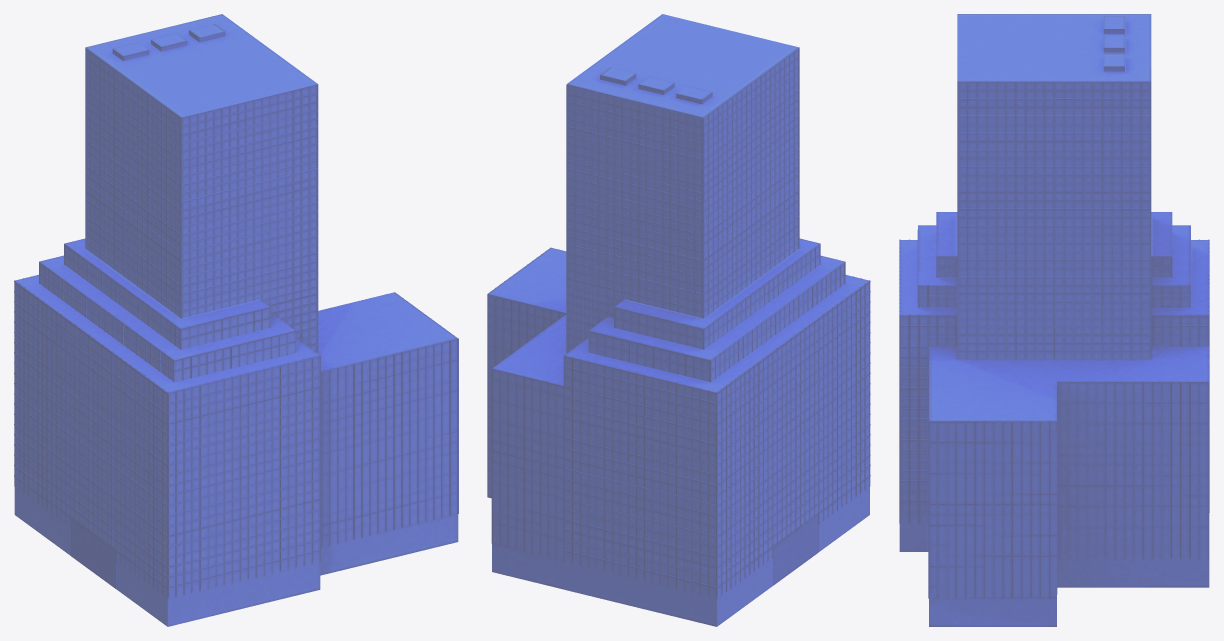
The model's file is 485_lex_on.glb.
3 views of the same model, side by side, from view 1: azimuth 30°, elevation 25°; view 2: azimuth 150°, elevation 25°; view 3: azimuth 270°, elevation 25° (orthographic).
Visible parts, largest first — view 1: Empty_Mesh; view 2: Empty_Mesh; view 3: Empty_Mesh.
Boxes of the visible parts, x1,y1,x2,y2 form: Empty_Mesh: [14, 14, 458, 626]; Empty_Mesh: [487, 14, 870, 626]; Empty_Mesh: [899, 14, 1209, 626].
Size of the model in its own units: 7.8 by 11.78 by 6.78.
1 material, 1 textured.
